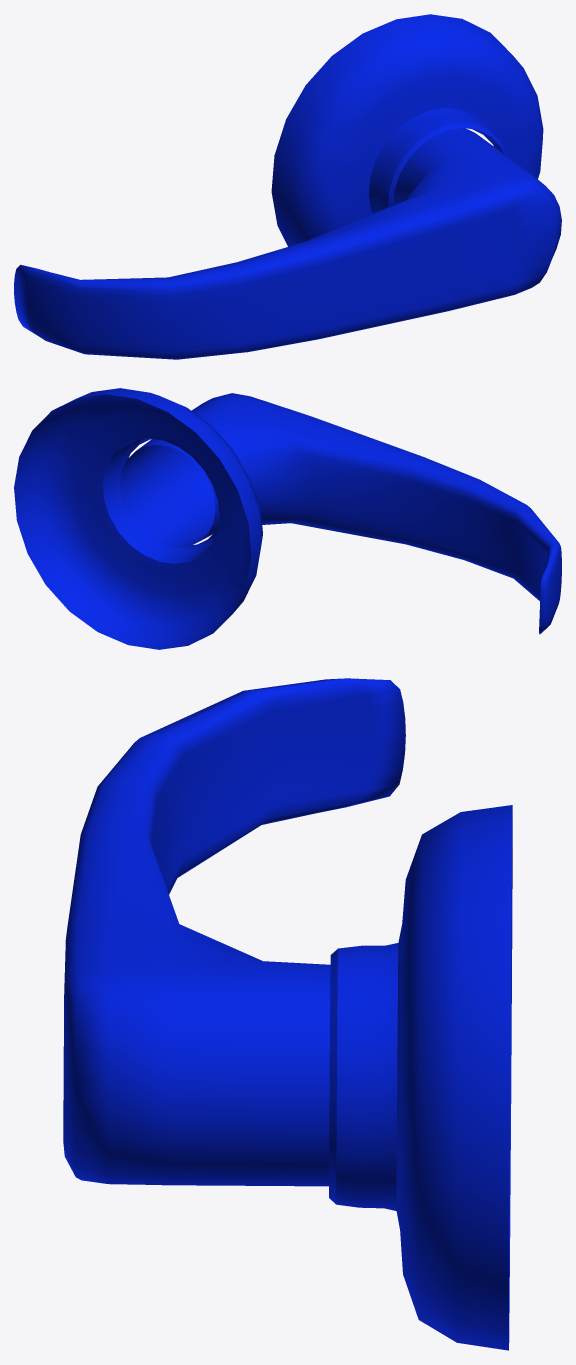
File: Handle.fbx
3 views of the same model, one above another, from view 1: azimuth 30°, elevation 25°; view 2: azimuth 150°, elevation 25°; view 3: azimuth 270°, elevation 25° (orthographic). The views are drawn at different scales.
Visible parts, largest first — view 1: Handle; view 2: Handle; view 3: Handle.
Part boxes in pixels (bbox=[...]): Handle: bbox=[14, 14, 561, 359]; Handle: bbox=[14, 388, 561, 649]; Handle: bbox=[63, 678, 512, 1350].
Bounding box in the file's own units: 17.87 × 8.51 × 6.96.
